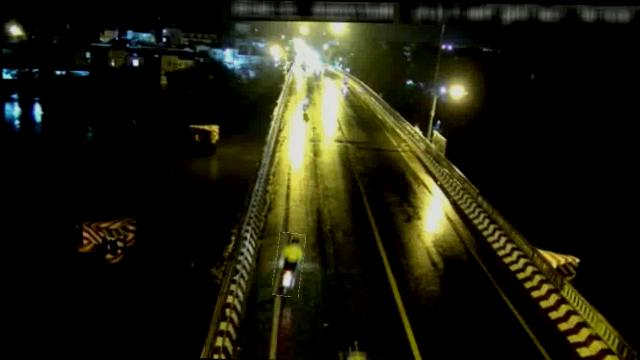Bike: (273, 232, 304, 297)
